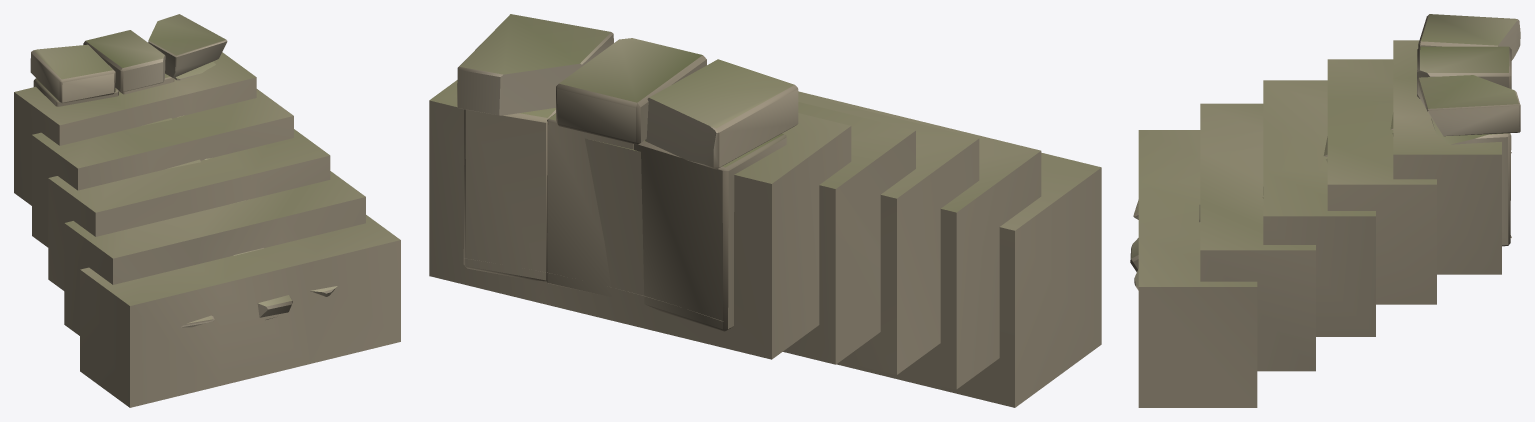
The model's file is dome_shell_b0.glb.
3 views of the same model, side by side, from view 1: azimuth 30°, elevation 25°; view 2: azimuth 150°, elevation 25°; view 3: azimuth 270°, elevation 25° (orthographic). The views are drawn at different scales.
Parts seen in each view (by area): view 1: dome_shell_b0_far, dome_shell_b0; view 2: dome_shell_b0_far, dome_shell_b0; view 3: dome_shell_b0_far, dome_shell_b0.
Boxes of the visible parts, x1,y1,x2,y2 form: dome_shell_b0_far: [14, 52, 400, 407]; dome_shell_b0: [30, 14, 337, 327]; dome_shell_b0_far: [429, 80, 1101, 407]; dome_shell_b0: [457, 14, 798, 331]; dome_shell_b0_far: [1138, 40, 1501, 407]; dome_shell_b0: [1130, 14, 1520, 290].
Size of the model in its own units: 11.39 by 9.3 by 11.96.
